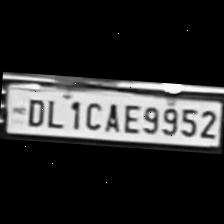1: (63, 96, 83, 129)
2: (196, 105, 217, 138)
5: (176, 103, 197, 137)
9: (140, 100, 160, 133), (159, 103, 178, 135)
A: (102, 98, 120, 132)
C: (82, 96, 104, 130)
D: (22, 92, 46, 126)
E: (120, 99, 140, 132)
L: (44, 94, 64, 128)
